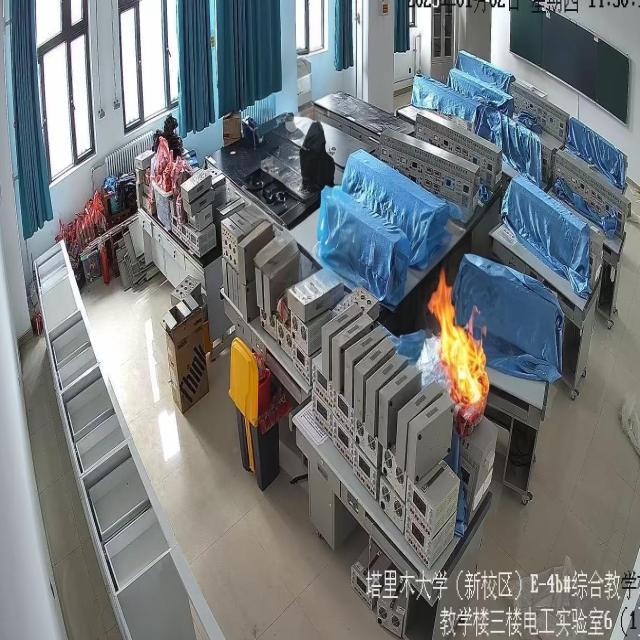smoke: (428, 269, 489, 422)
